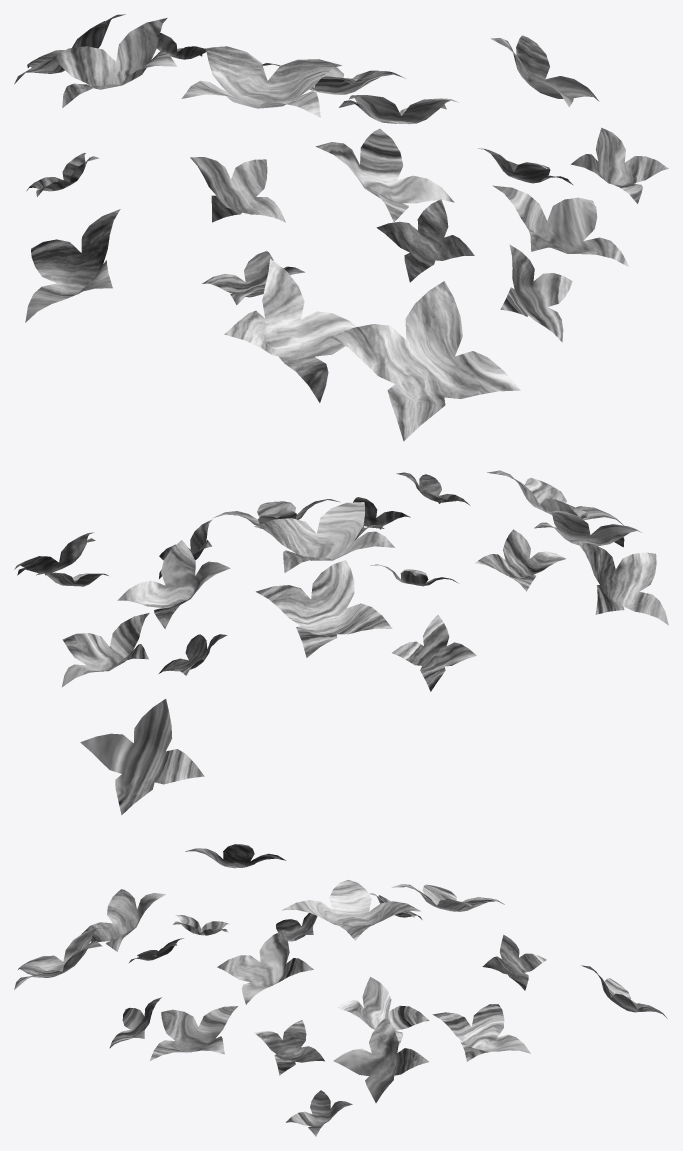
The model's file is SM_Flower_Pink.fbx.
The picture shows the model from 3 angles, top to bottom: view 1: azimuth 30°, elevation 25°; view 2: azimuth 150°, elevation 25°; view 3: azimuth 270°, elevation 25°; orthographic projection. The views are drawn at different scales.
Parts seen in each view (by area): view 1: SM_Flower_Pink_LOD0; view 2: SM_Flower_Pink_LOD0; view 3: SM_Flower_Pink_LOD0.
Part boxes in pixels (box(x1,y1,x2,y2)): SM_Flower_Pink_LOD0: box(14, 14, 668, 441); SM_Flower_Pink_LOD0: box(14, 470, 668, 814); SM_Flower_Pink_LOD0: box(14, 844, 667, 1136).
Size of the model in its own units: 107 by 130 by 25.13.
Materials: 1 (1 with a texture image).
